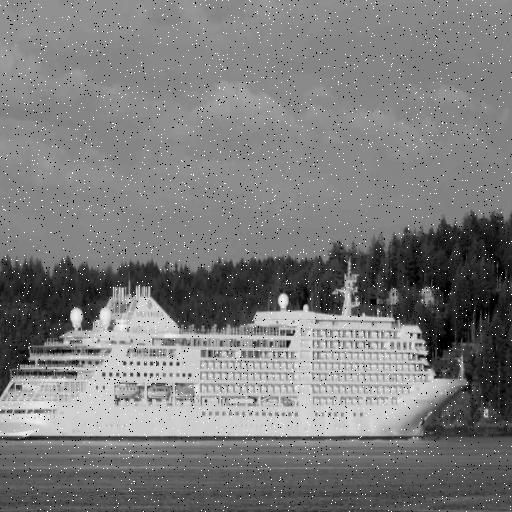cruises: (1, 270, 472, 452)
